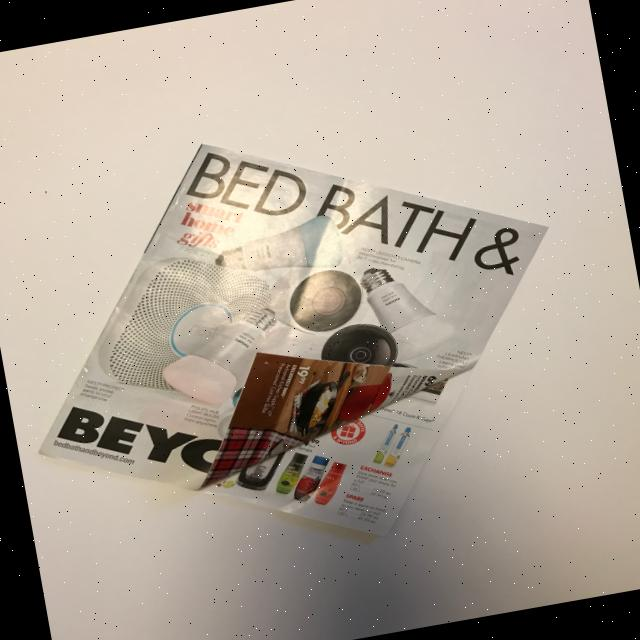paper: (0, 85, 597, 592)
